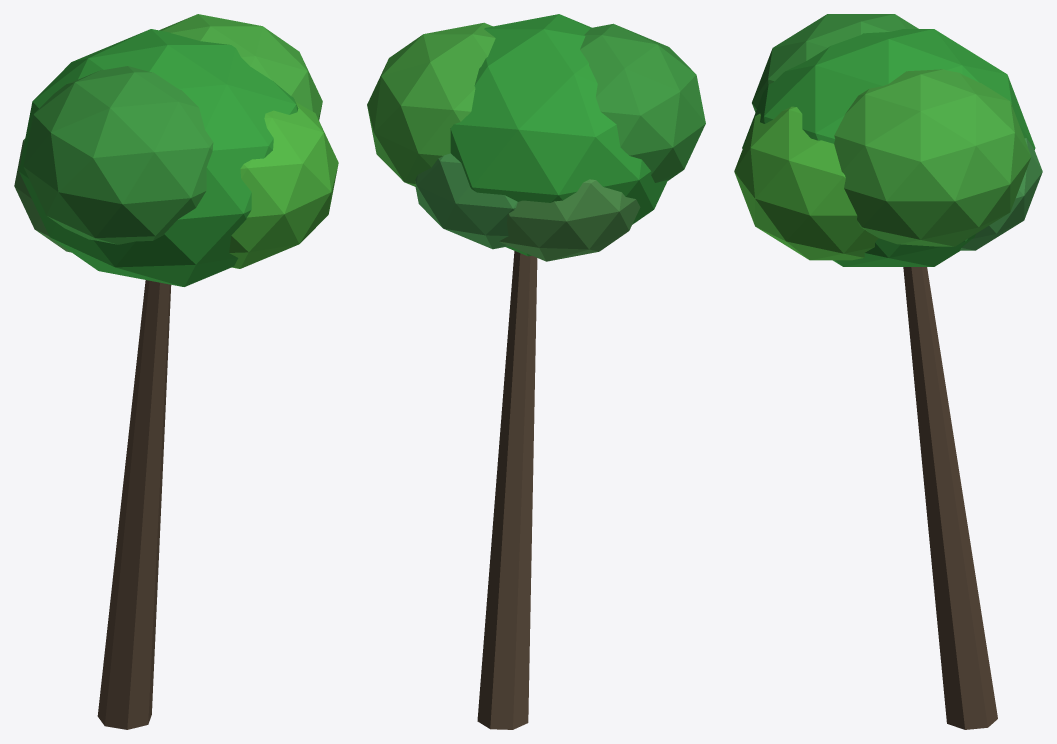
Rendered from tree_oak_20.glb.
The picture shows the model from 3 angles, left to right: view 1: azimuth 30°, elevation 25°; view 2: azimuth 150°, elevation 25°; view 3: azimuth 270°, elevation 25°; orthographic projection. The views are drawn at different scales.
Parts seen in each view (by area): view 1: Icosphere.002, Icosphere, Trunk, Icosphere.005, Icosphere.001, Icosphere.004; view 2: Icosphere, Trunk, Icosphere.001, Icosphere.002, Icosphere.004, Icosphere.003; view 3: Icosphere.001, Trunk, Icosphere, Icosphere.005, Icosphere.002, Icosphere.003.
Part boxes in pixels (x1,y1,x2,y2): Icosphere.002: (23, 66, 213, 244); Icosphere: (19, 29, 298, 286); Trunk: (97, 280, 171, 729); Icosphere.005: (229, 102, 338, 268); Icosphere.001: (159, 14, 322, 120); Icosphere.004: (14, 138, 71, 252); Icosphere: (450, 14, 667, 256); Trunk: (477, 251, 537, 729); Icosphere.001: (367, 22, 495, 186); Icosphere.002: (580, 23, 705, 182); Icosphere.004: (499, 179, 640, 261); Icosphere.003: (415, 153, 517, 249); Icosphere.001: (834, 69, 1031, 246); Trunk: (903, 267, 997, 729); Icosphere: (742, 29, 1035, 266); Icosphere.005: (734, 106, 878, 260); Icosphere.002: (752, 14, 918, 112); Icosphere.003: (960, 138, 1042, 250).
Bounding box in the file's own units: 3.7 × 8.43 × 3.47.
